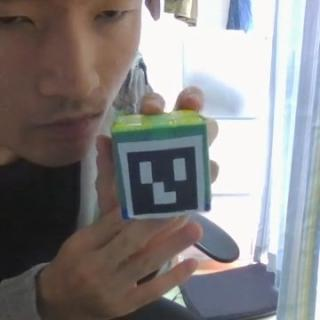armor: (118, 135, 206, 219)
robot: (112, 109, 212, 221)
